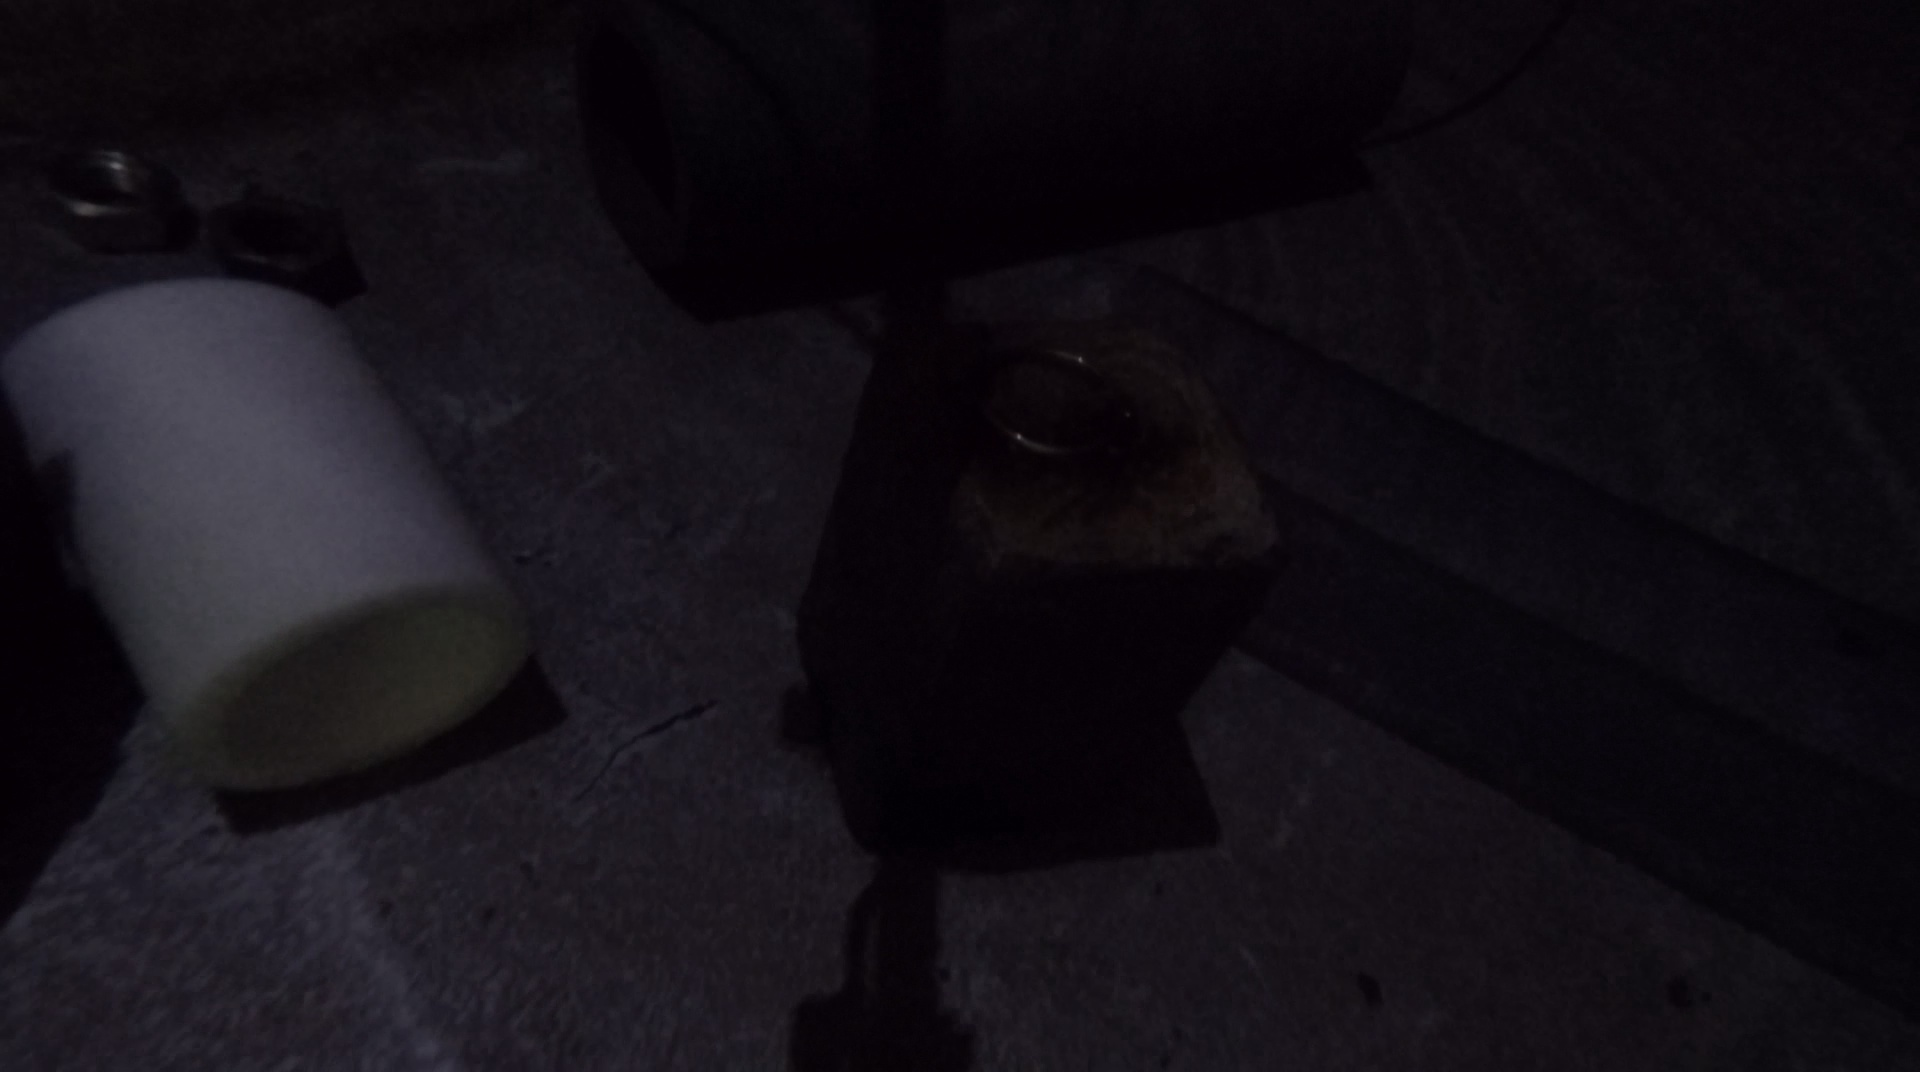led_block: (793, 324, 1287, 858)
nut: (32, 140, 194, 266), (207, 194, 367, 303)
pipe: (1109, 254, 1920, 1015), (1, 278, 535, 794), (574, 1, 1414, 306)
